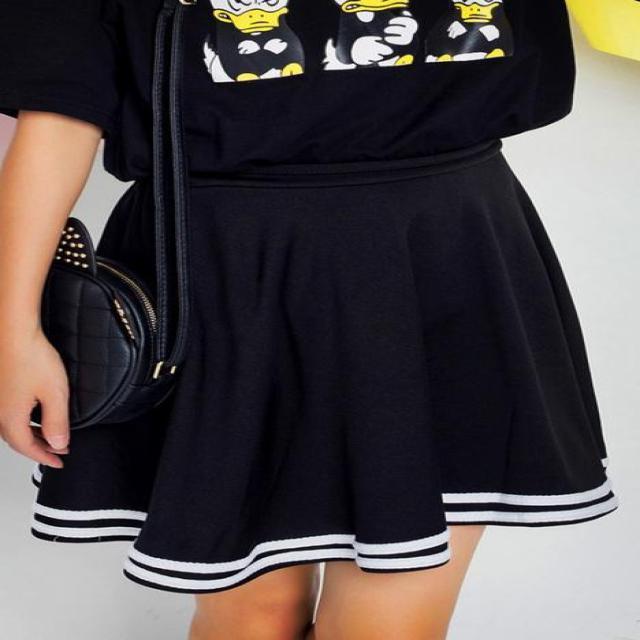short sleeve top: (0, 0, 574, 174)
skirt: (33, 135, 619, 572)
